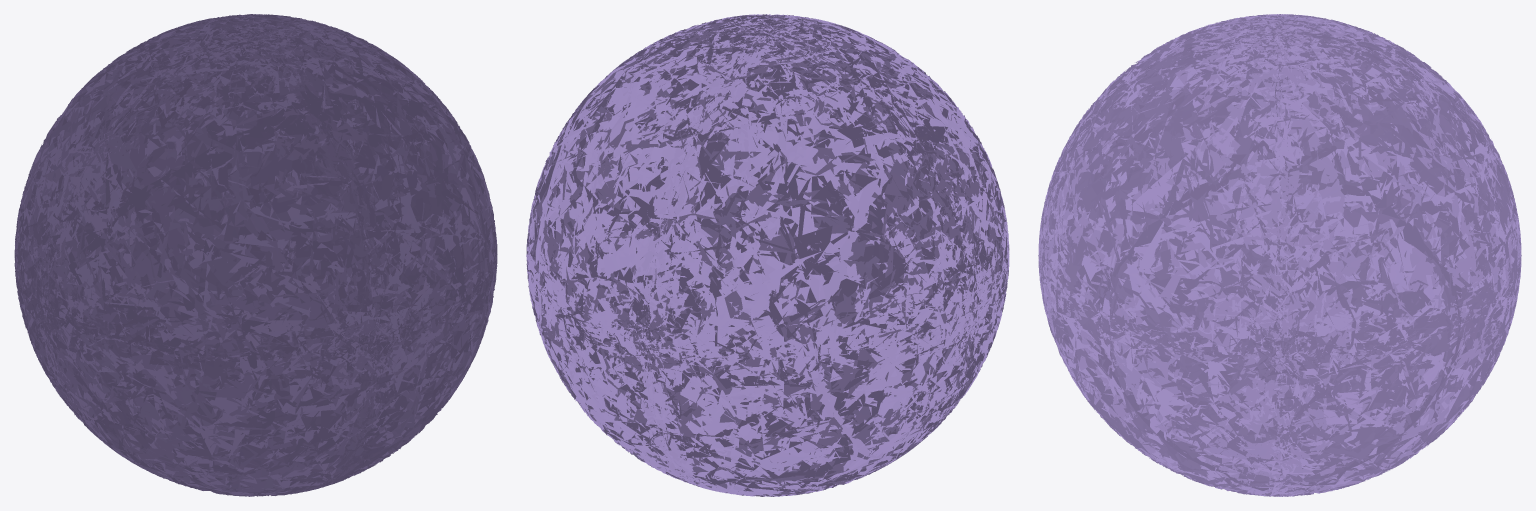
File: sys-sd-valves.glb
3 renders of one model, left to right at view 1: azimuth 30°, elevation 25°; view 2: azimuth 150°, elevation 25°; view 3: azimuth 270°, elevation 25°, orthographic.
Parts seen in each view (by area): view 1: TS-sd-instrument-1695, TS-sd-instrument-1697; view 2: TS-sd-instrument-1695, TS-sd-instrument-1697; view 3: TS-sd-instrument-1695, TS-sd-instrument-1697.
Boxes of the visible parts, x1,y1,x2,y2 form: TS-sd-instrument-1695: [14, 14, 497, 496]; TS-sd-instrument-1697: [14, 14, 497, 496]; TS-sd-instrument-1695: [526, 14, 1009, 496]; TS-sd-instrument-1697: [526, 14, 1009, 496]; TS-sd-instrument-1695: [1038, 14, 1521, 496]; TS-sd-instrument-1697: [1038, 14, 1521, 496].
Bounding box in the file's own units: 2 × 2 × 2.
